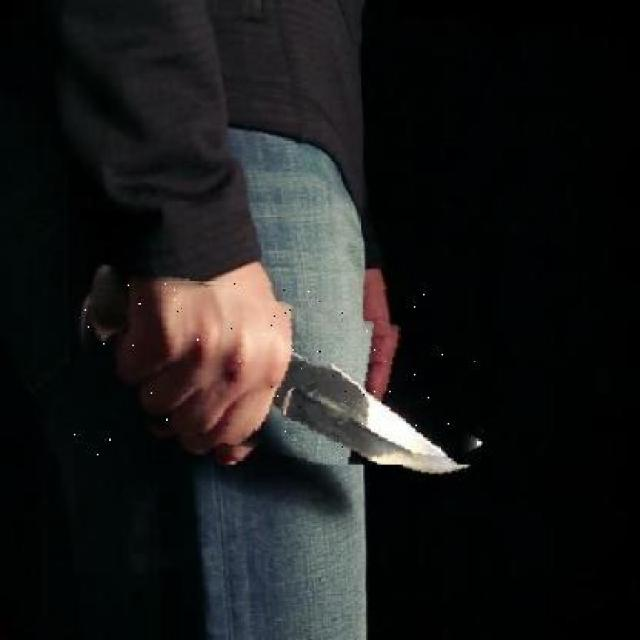knife: (74, 280, 491, 465)
